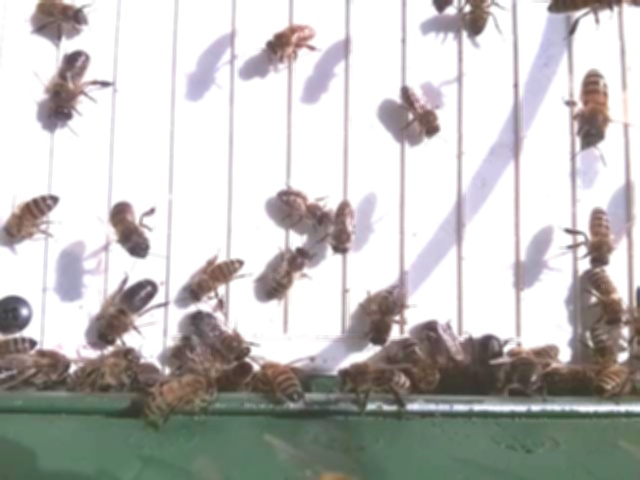Drone: (94, 274, 163, 349), (46, 46, 94, 130)
Worker: (186, 309, 254, 365), (0, 189, 63, 242), (577, 65, 611, 155), (583, 263, 630, 328), (270, 184, 333, 232), (187, 254, 250, 300), (257, 19, 322, 63), (111, 197, 154, 262), (398, 84, 446, 142), (362, 283, 405, 346), (264, 248, 313, 303), (586, 202, 616, 274), (33, 0, 96, 33), (332, 198, 358, 257)
